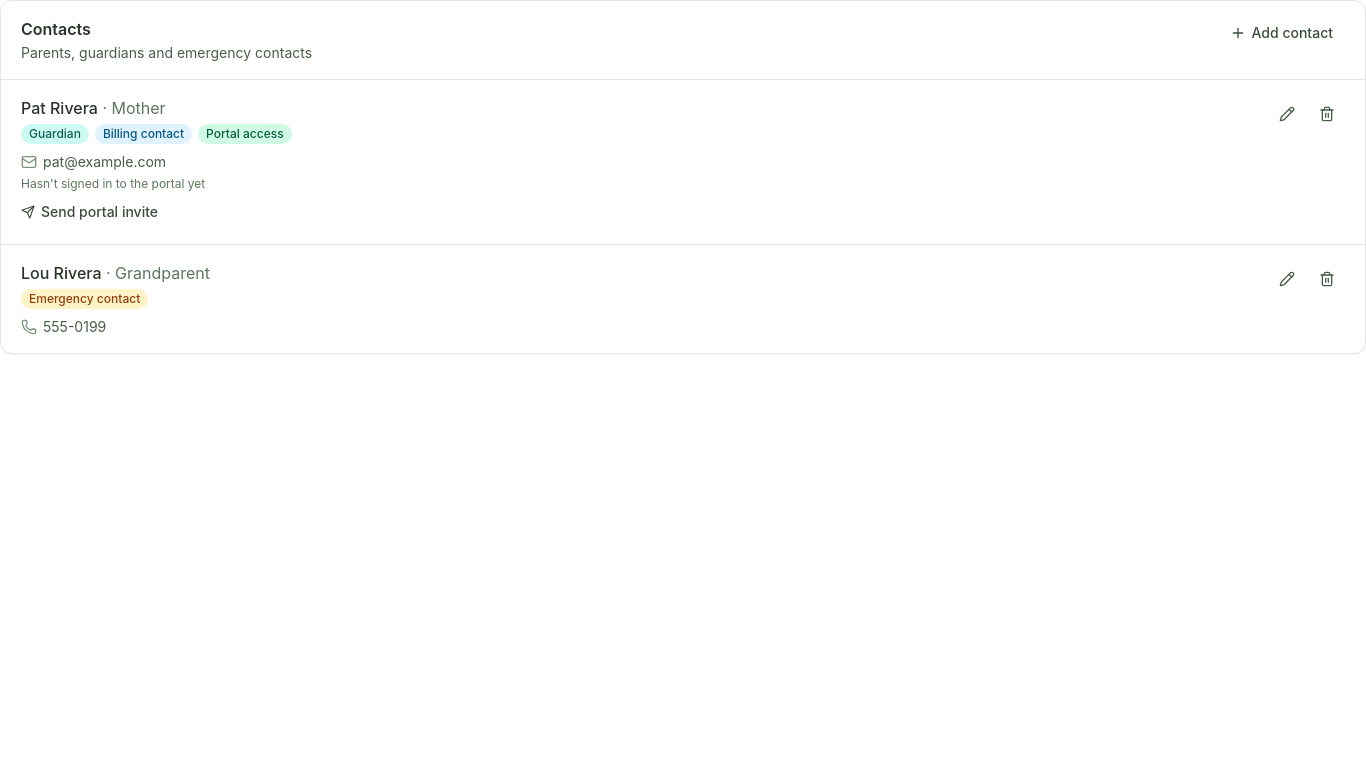
Scenario: ContactsSection › shows the server's duplicate-email error on the email field
This screenshot has width=1366, height=768.
Click the button named "Edit Lou Rivera".
click(1287, 279)  # box [1269, 261, 1305, 297]
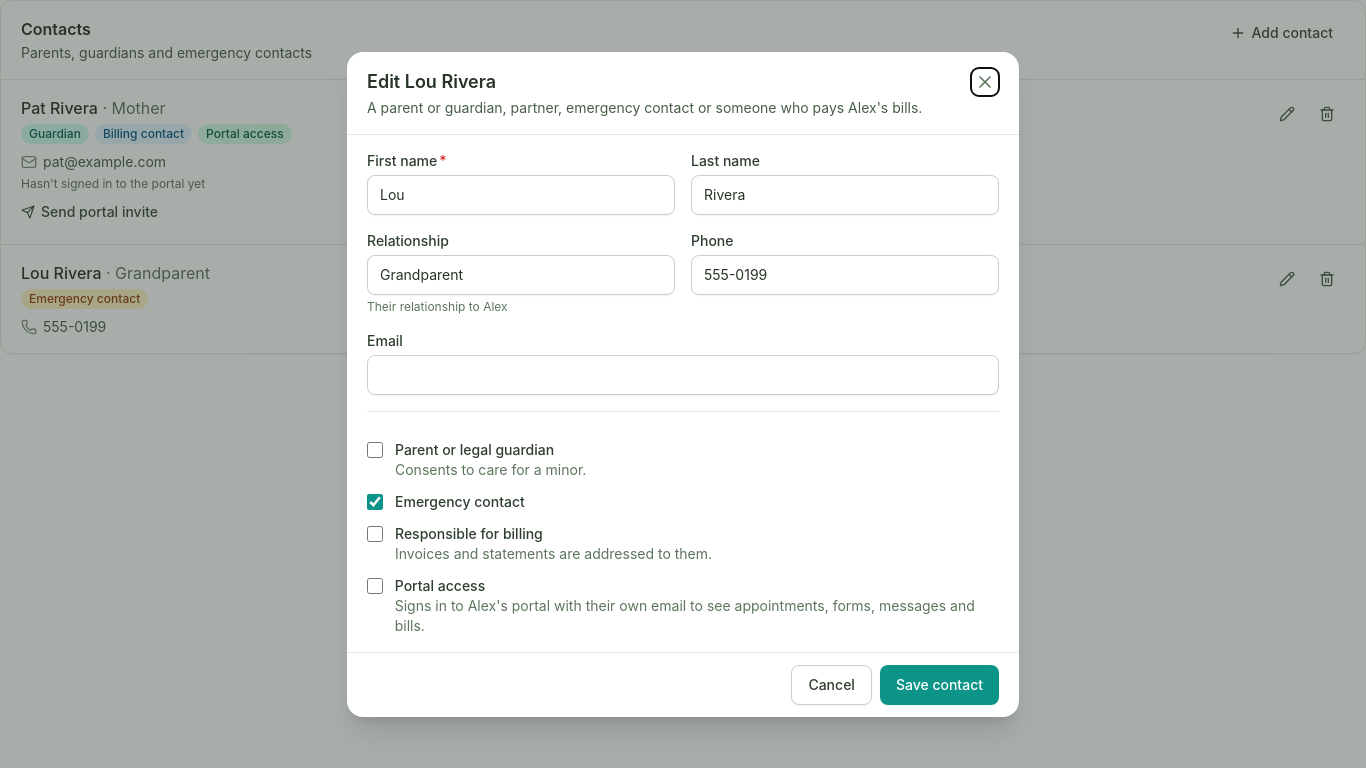
Type "pat@example.com" into the field labelled "Email".
click(683, 374); type("pat@example.com")  # box [367, 354, 999, 394]
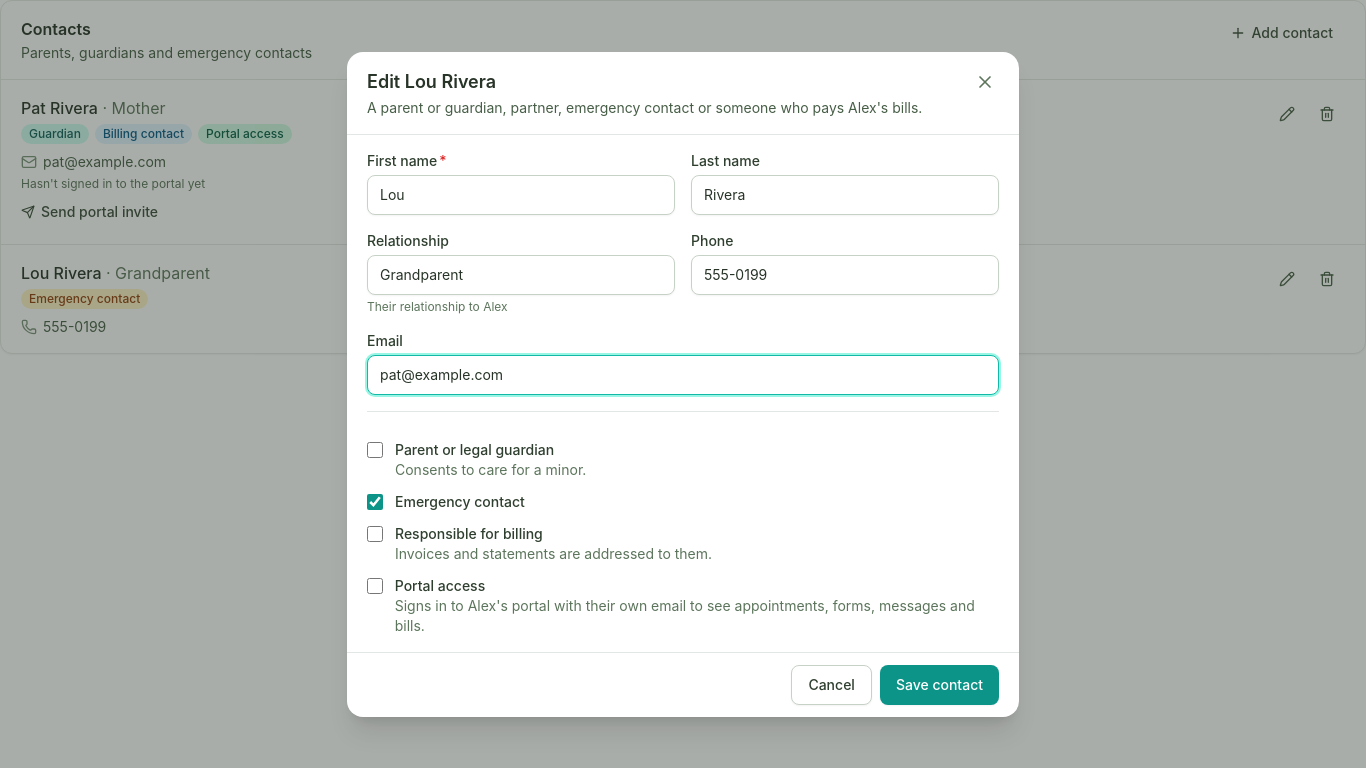
Click the button "Save contact".
click(939, 684)  # box [880, 664, 999, 704]
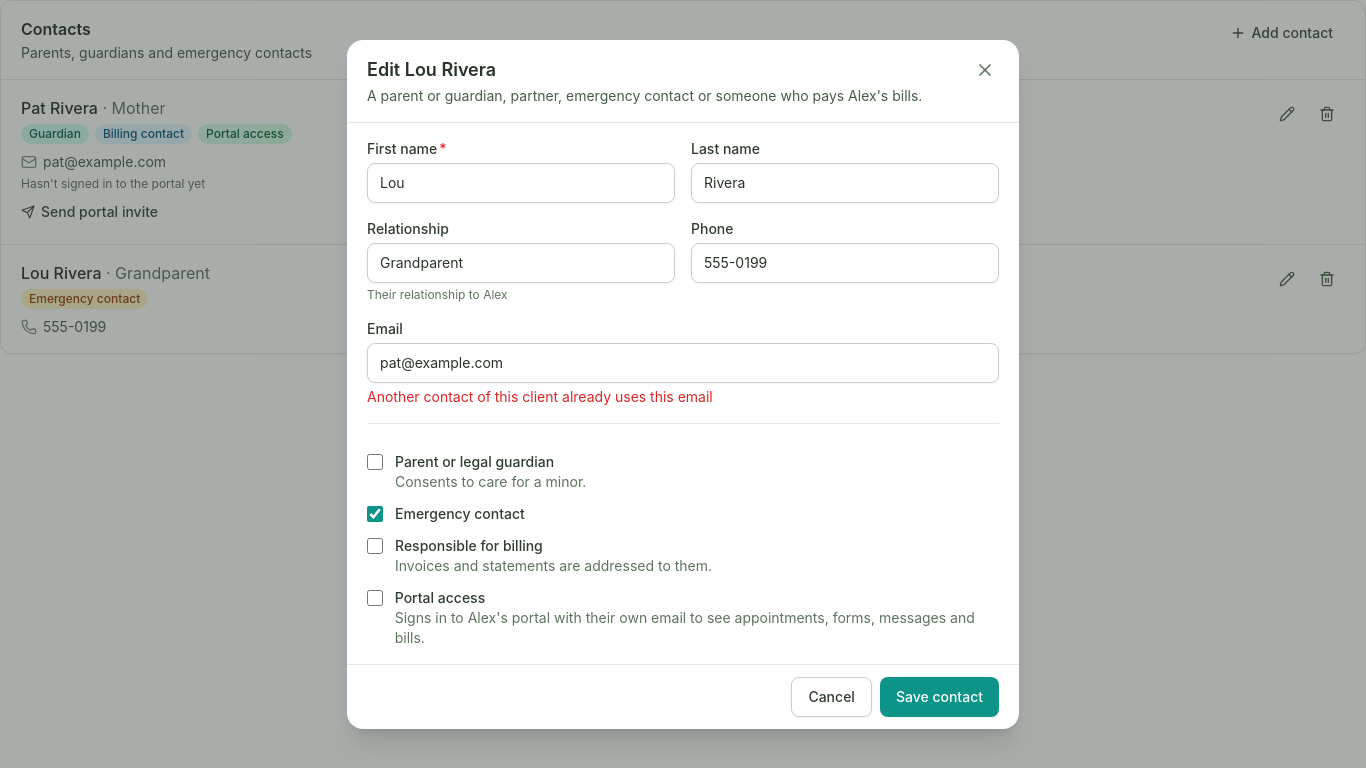
Result: the text "Another contact of this client already uses this email" is shown at [367, 388, 713, 404]
